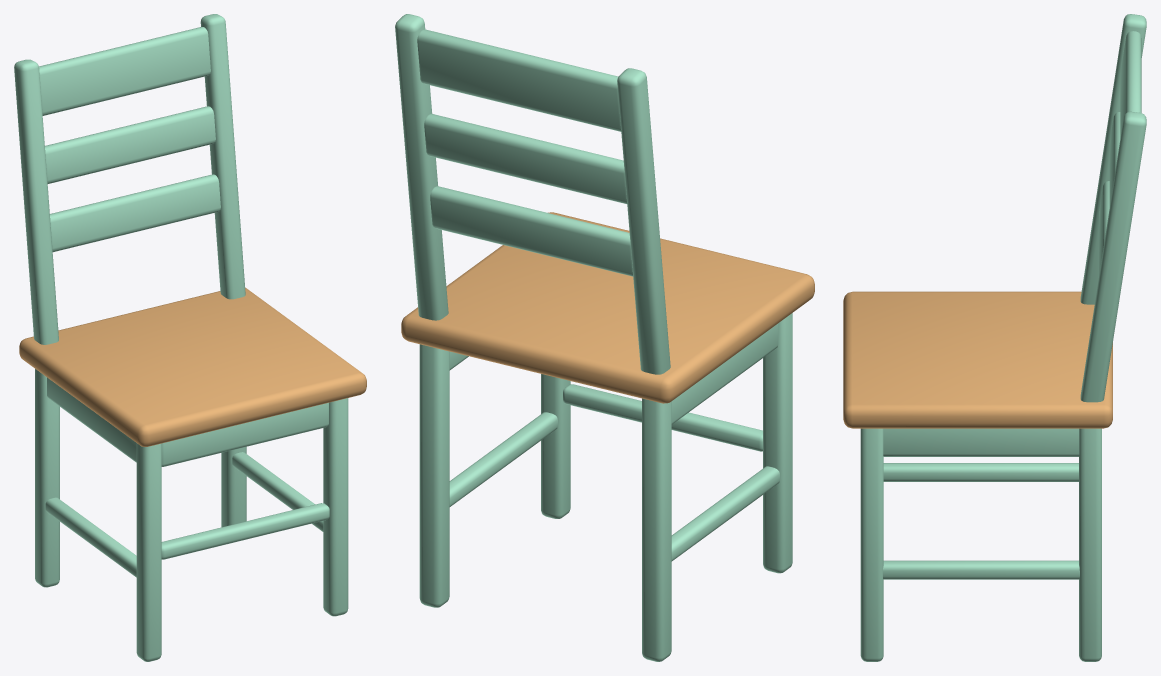
File: cadeira_cozinha_ripas_menta.glb
The picture shows the model from 3 angles, left to right: view 1: azimuth 30°, elevation 25°; view 2: azimuth 150°, elevation 25°; view 3: azimuth 270°, elevation 25°; orthographic projection. The views are drawn at different scales.
Parts seen in each view (by area): view 1: cadeira_cozinha_ripas_menta; view 2: cadeira_cozinha_ripas_menta; view 3: cadeira_cozinha_ripas_menta.
Part boxes in pixels (bbox=[...]): cadeira_cozinha_ripas_menta: bbox=[14, 14, 366, 661]; cadeira_cozinha_ripas_menta: bbox=[395, 14, 814, 661]; cadeira_cozinha_ripas_menta: bbox=[843, 14, 1146, 661].
Bounding box in the file's own units: 0.44 × 0.9362 × 0.4724.
Materials: 1 (1 with a texture image).
